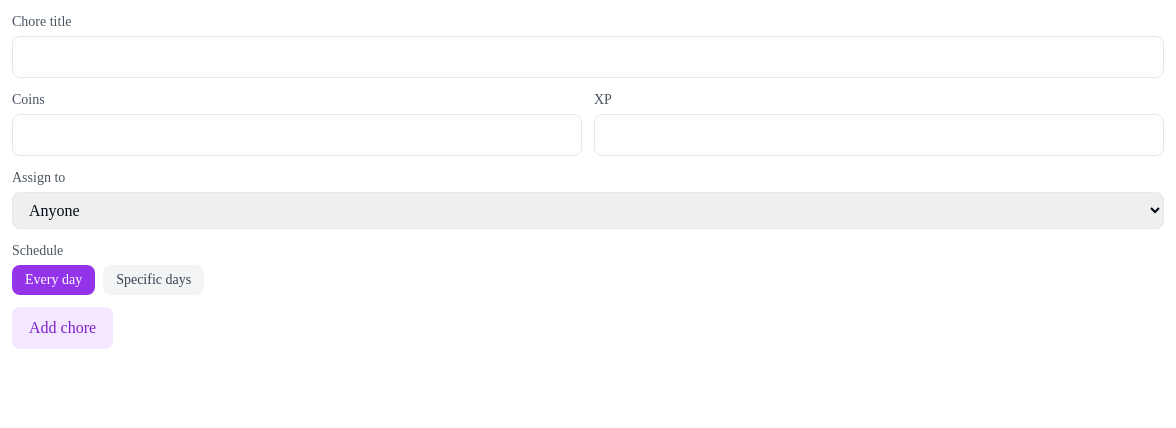
ChoreTemplateForm › blocks submit and shows a hint when Specific days is selected with zero days checked
Type "Take out bins" into the field labelled "Chore title" at (588, 57), box [12, 36, 1164, 78]
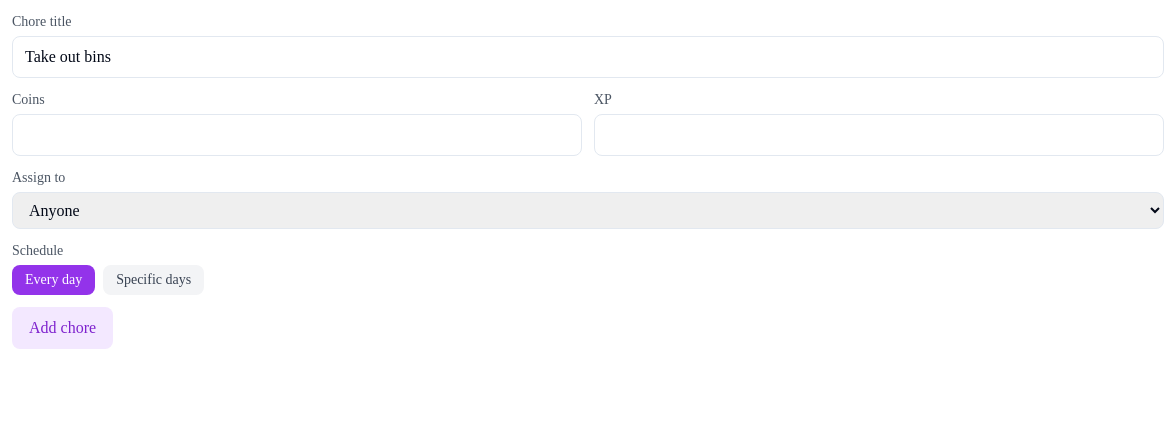
Type "8" into the number field labelled "Coins" at (297, 135), box [12, 114, 582, 156]
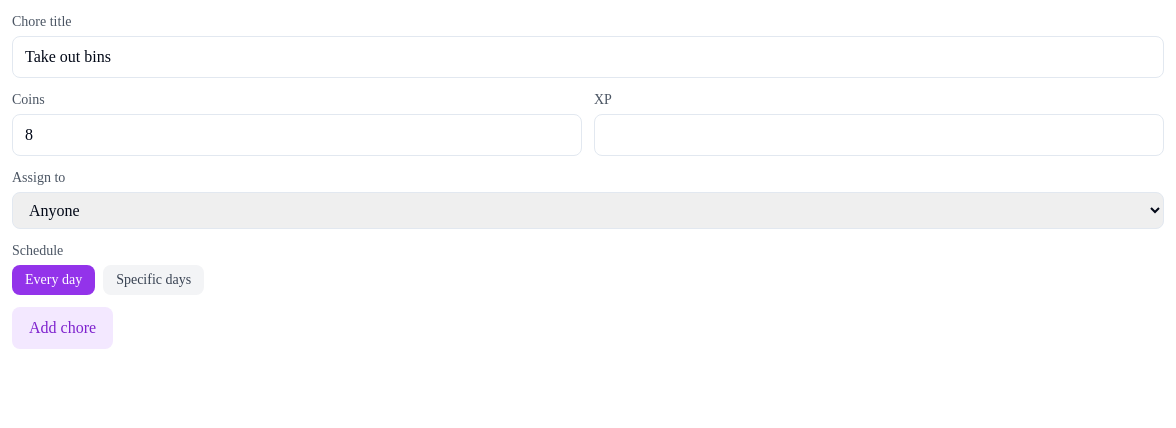
Type "4" into the number field labelled "XP" at (879, 135), box [594, 114, 1164, 156]
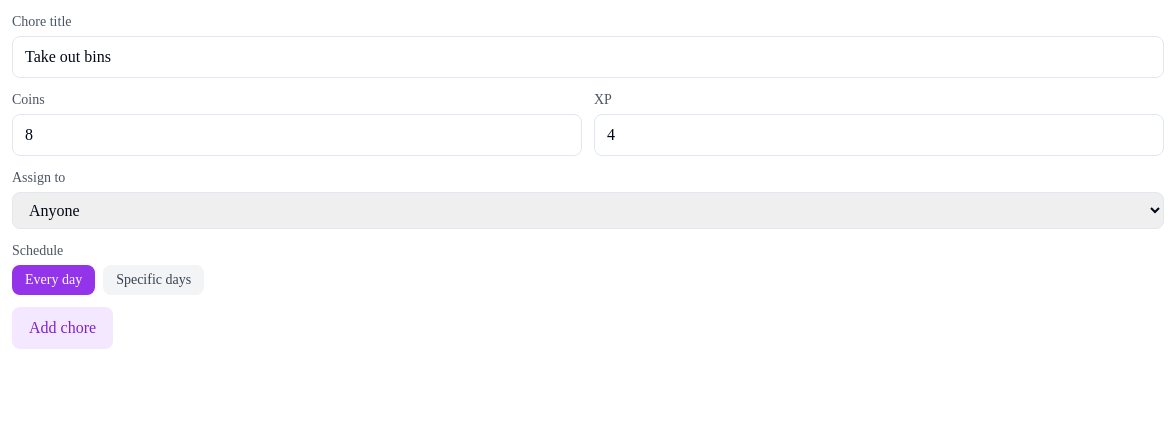
Click the button "Specific days" at (154, 280), box [103, 265, 204, 295]
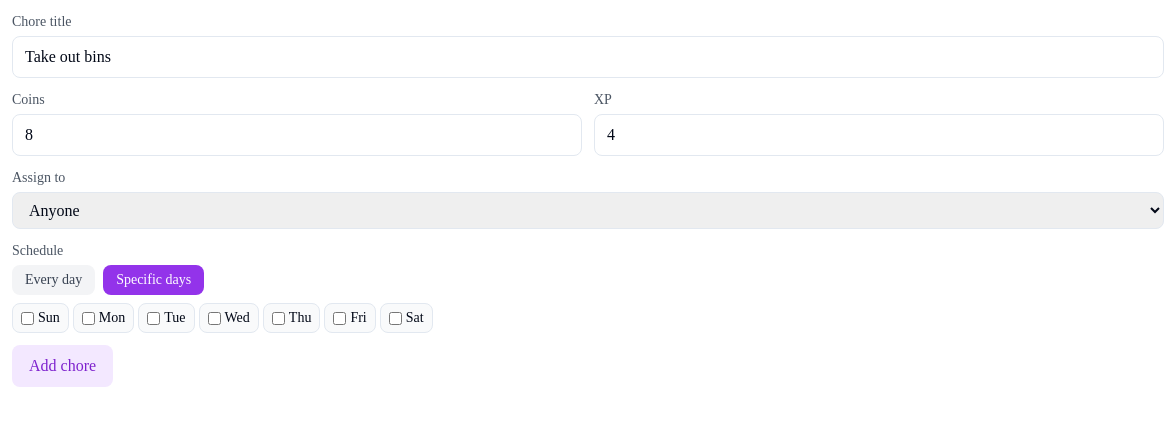
Click the button "Add chore" at (63, 366), box [12, 345, 113, 387]
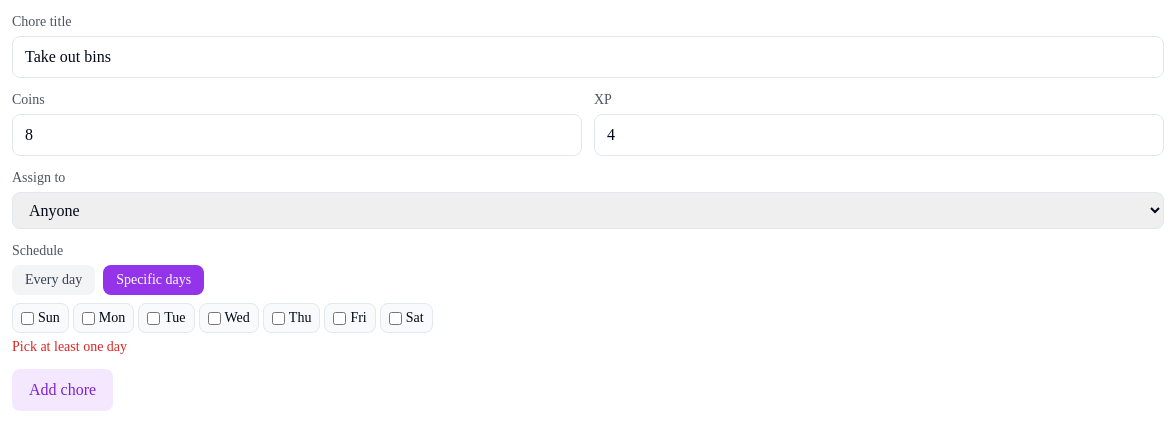
Expected: the text "Pick at least one day" is shown, [12, 339, 127, 354]
